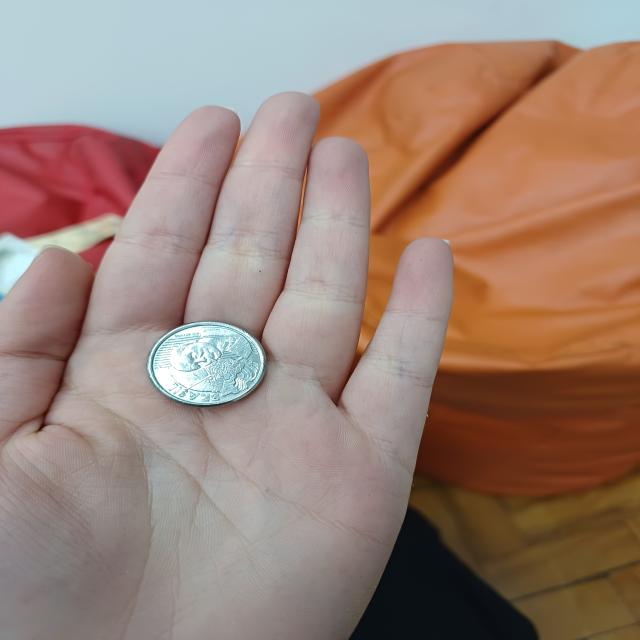50 cents: (143, 318, 271, 410)
